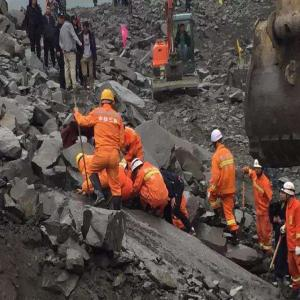none: (83, 21, 91, 34), (58, 14, 66, 26), (46, 6, 52, 16), (180, 24, 186, 34)
white: (282, 182, 296, 202), (211, 128, 224, 149), (131, 158, 144, 178), (253, 158, 265, 178)
yellow: (101, 89, 117, 109), (76, 152, 86, 172)
